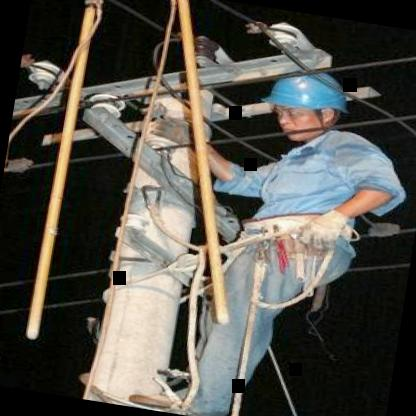helmet: (256, 65, 360, 148)
